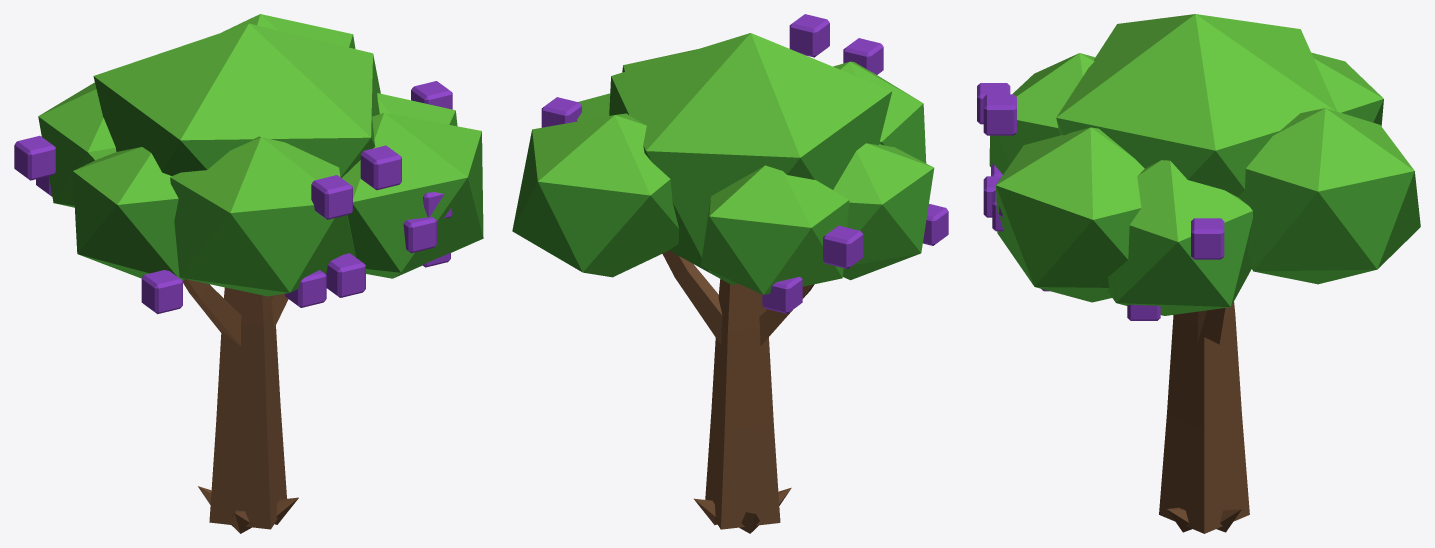
The model's file is PlumTree.fbx.
The picture shows the model from 3 angles, left to right: view 1: azimuth 30°, elevation 25°; view 2: azimuth 150°, elevation 25°; view 3: azimuth 270°, elevation 25°; orthographic projection. The views are drawn at different scales.
Visible parts, largest first — view 1: PlumTree; view 2: PlumTree; view 3: PlumTree.
Boxes of the visible parts, box(x1,y1,x2,y2) form: PlumTree: box(14, 14, 483, 533); PlumTree: box(512, 14, 948, 533); PlumTree: box(977, 14, 1420, 533).
Size of the model in its own units: 11.12 by 14.16 by 11.22.
1 material, 1 textured.
